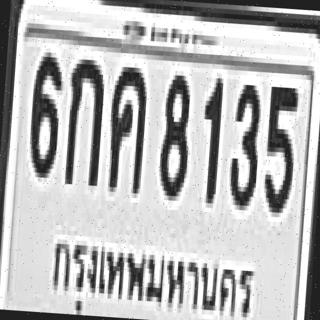A01: (63, 54, 104, 181)
A04: (104, 61, 147, 189)
N01: (197, 73, 222, 199)
N03: (227, 79, 261, 206)
N05: (261, 84, 297, 211)
N06: (26, 46, 62, 174)
N08: (156, 70, 192, 197)
P04: (47, 218, 272, 320)
